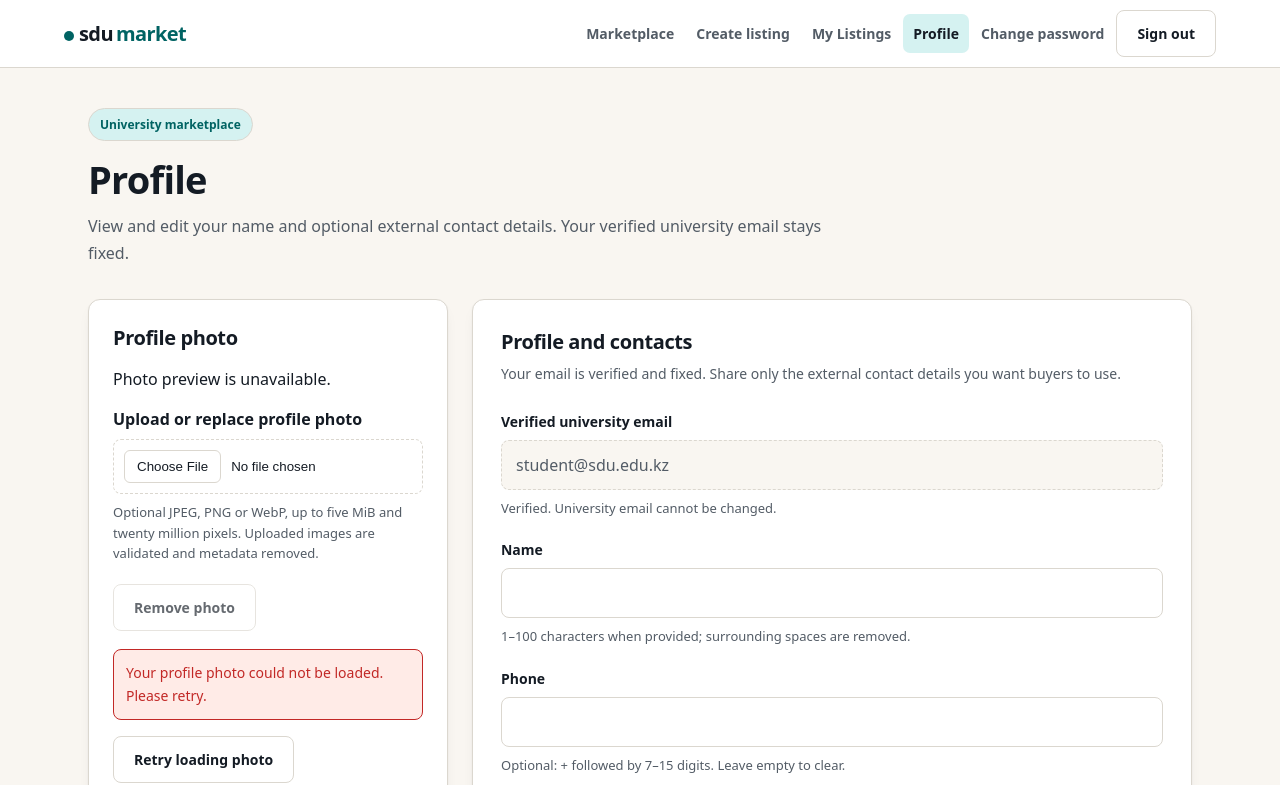
Test: photo load errors provide retry and authorization failure removes protected controls
This screenshot has width=1280, height=785.
Expected: the message shows "could not be loaded", [126,663,383,705]
Expected: the text "Photo preview is unavailable." is shown, [113,368,331,390]
What coordinates should you click on to do the following:
click the button "Retry loading photo"
I would click on:
 (204, 759)
Its box is [113,736,294,783].
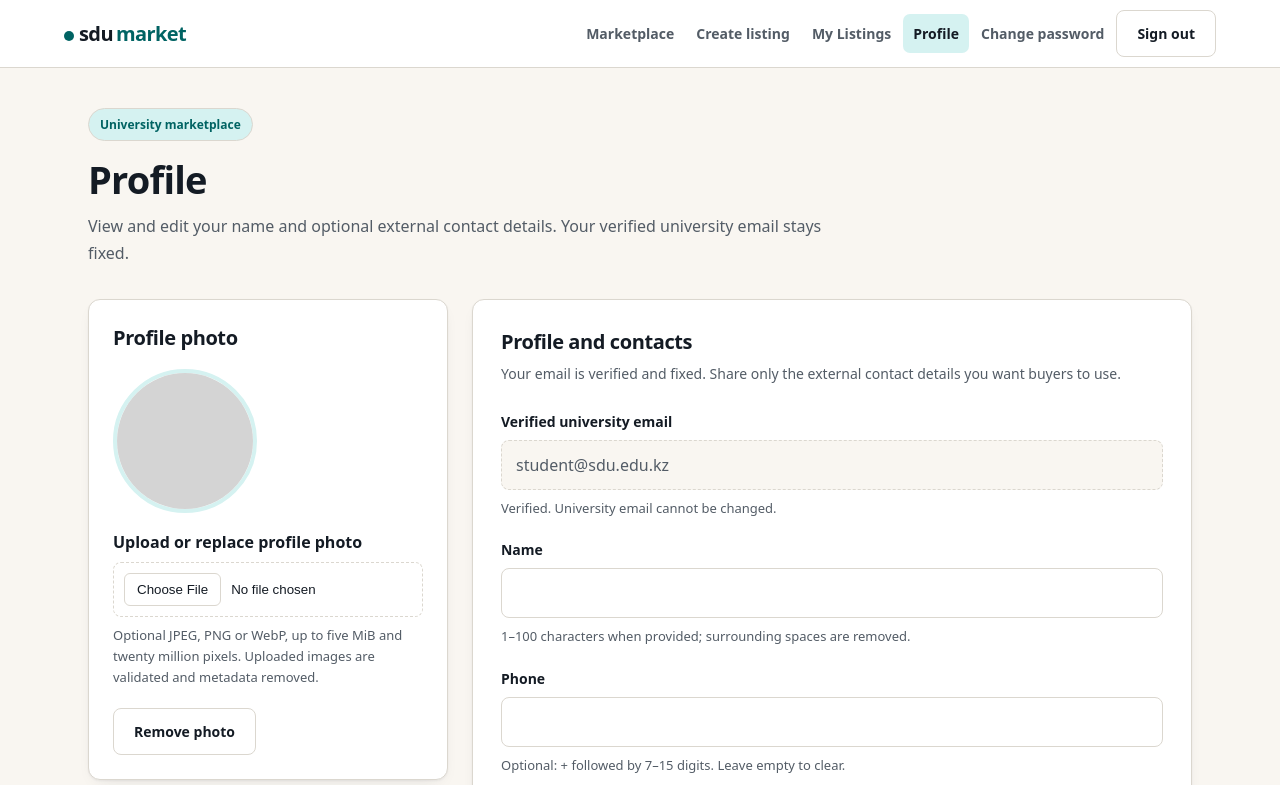
What coordinates should you click on to do the following:
click the button "Remove photo"
I would click on:
 (184, 731)
Its box is [113,708,256,755].
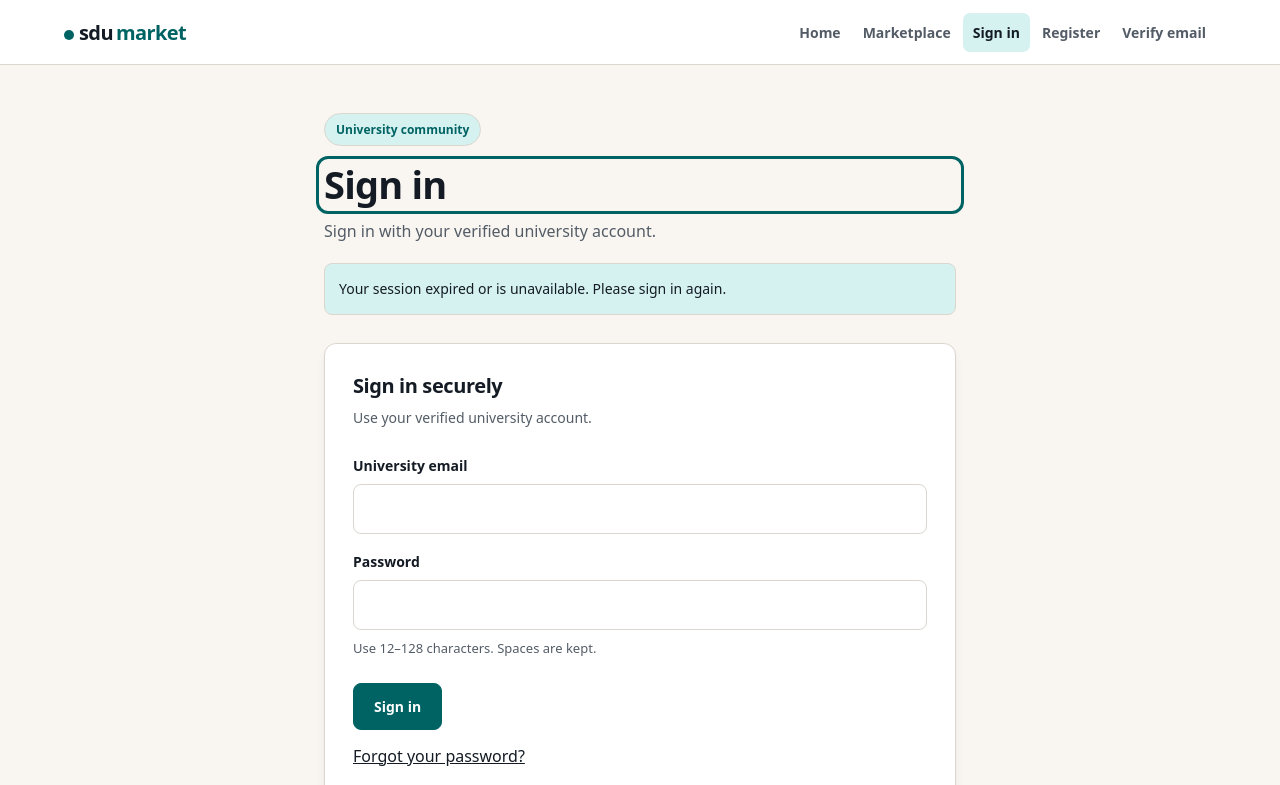
Result: the heading "Sign in" is shown at [324,158,446,210]
Result: the label labelled "Upload or replace profile photo" is gone
